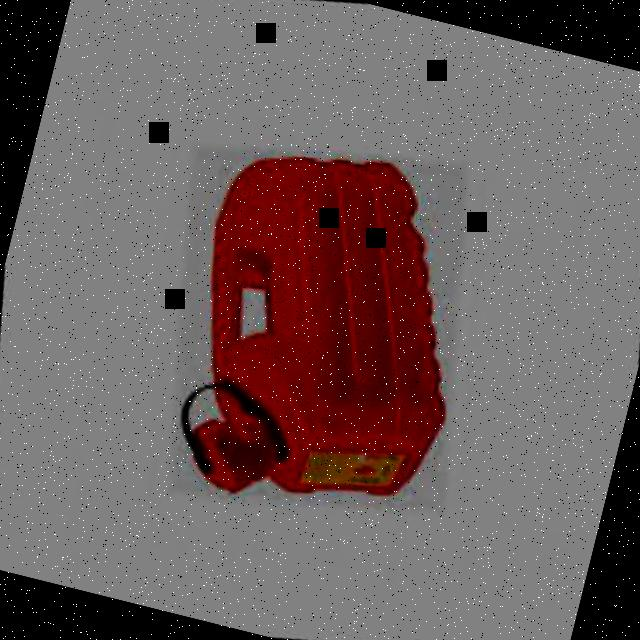chemical_plastic_gallon: (111, 94, 523, 553)
